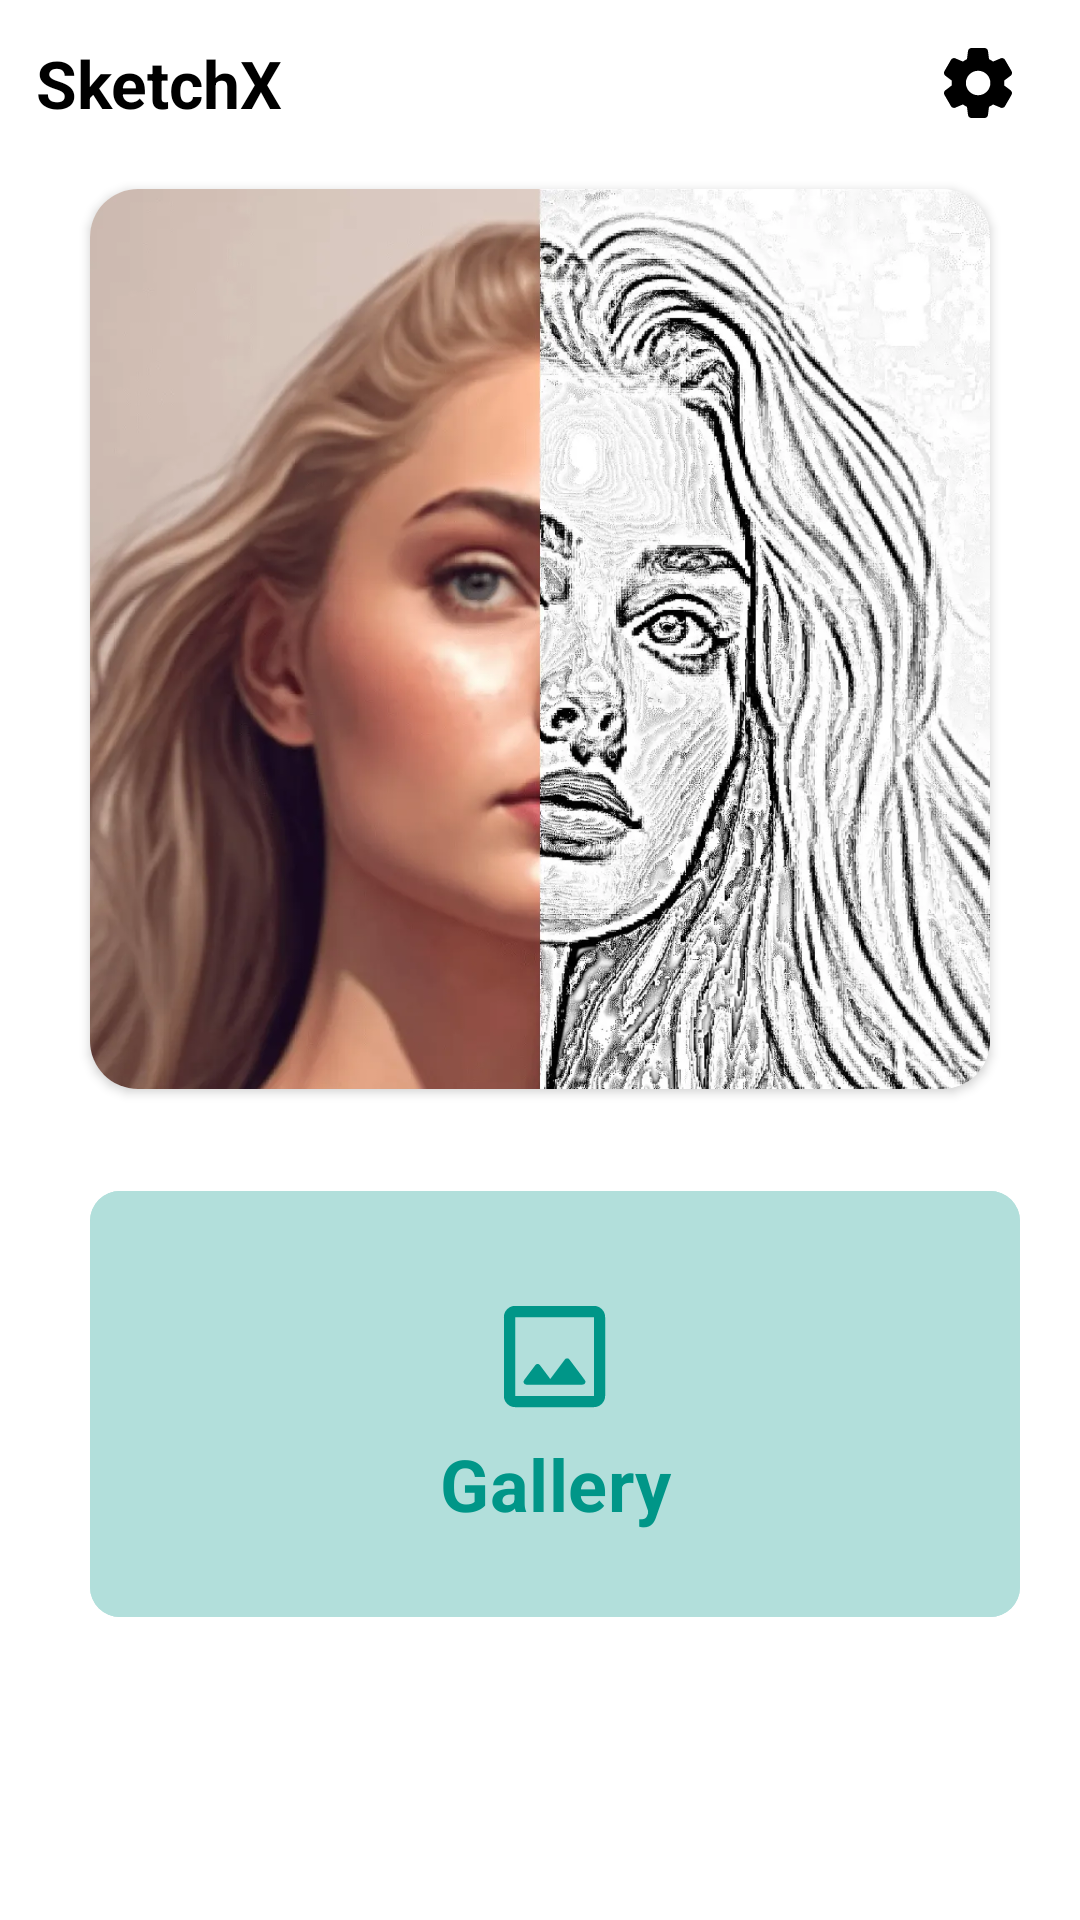

Where to tap for icons on this 1080×1920 app screen, as (x,y):
settings: (978,83)
